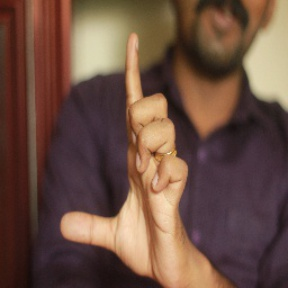L: (59, 32, 183, 277)
